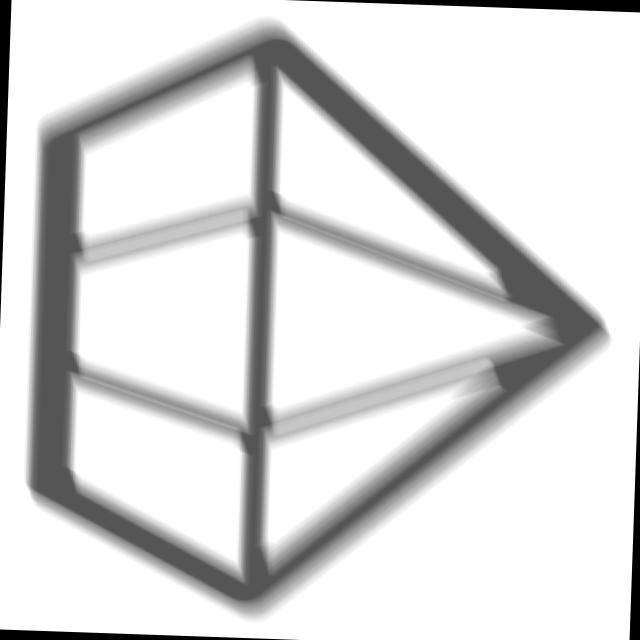diamond: (15, 3, 634, 640)
